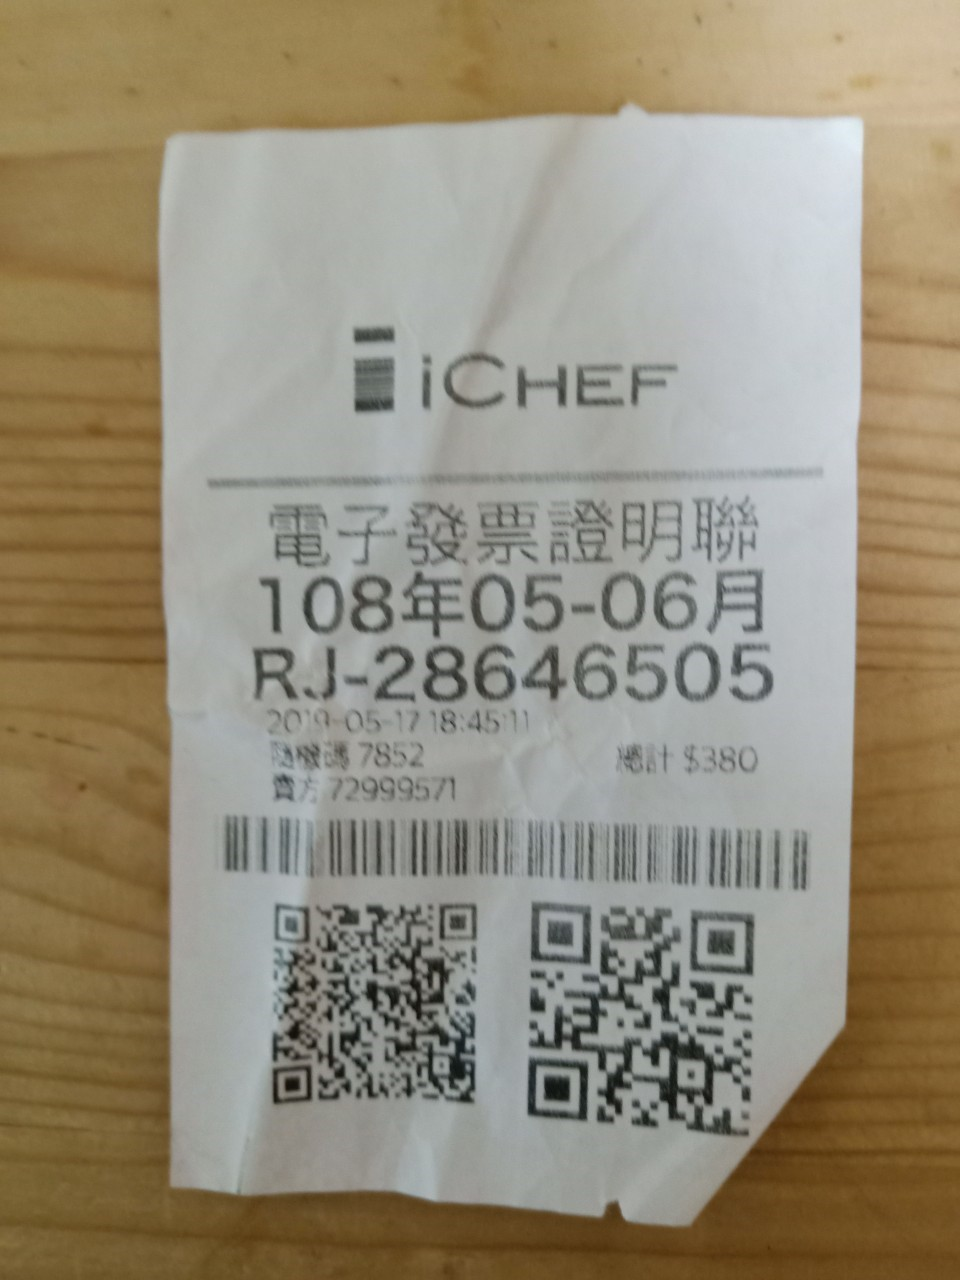Date_New: (260, 567, 768, 638)
Number_New: (375, 638, 778, 703)
